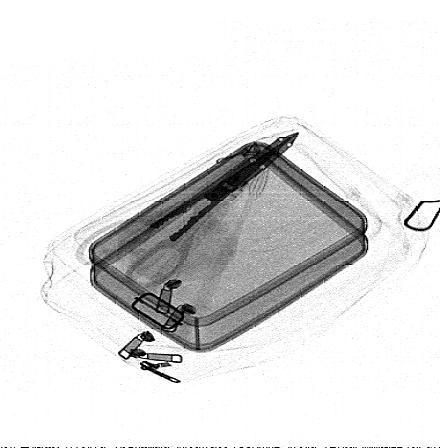Scissors: (77, 132, 302, 292)
